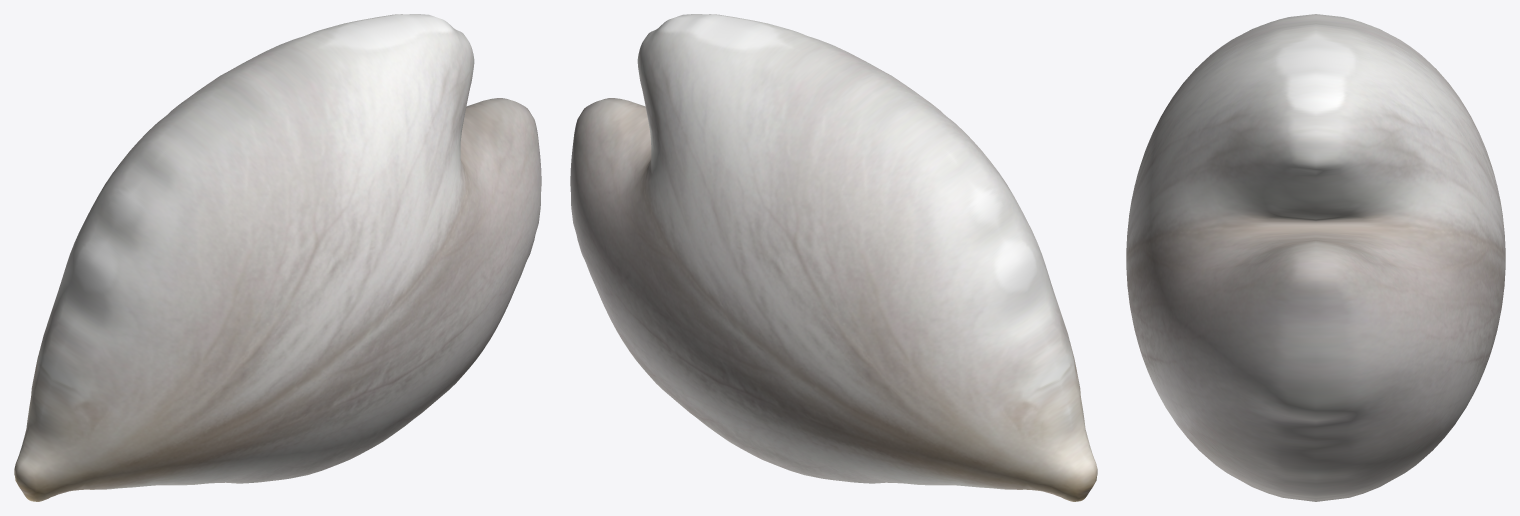
Rendered from petal_white.glb.
3 views of the same model, side by side, from view 1: azimuth 30°, elevation 25°; view 2: azimuth 150°, elevation 25°; view 3: azimuth 270°, elevation 25° (orthographic). The views are drawn at different scales.
Size of the model in its own units: 4.84 by 3.73 by 2.68.
1 material, 1 textured.
